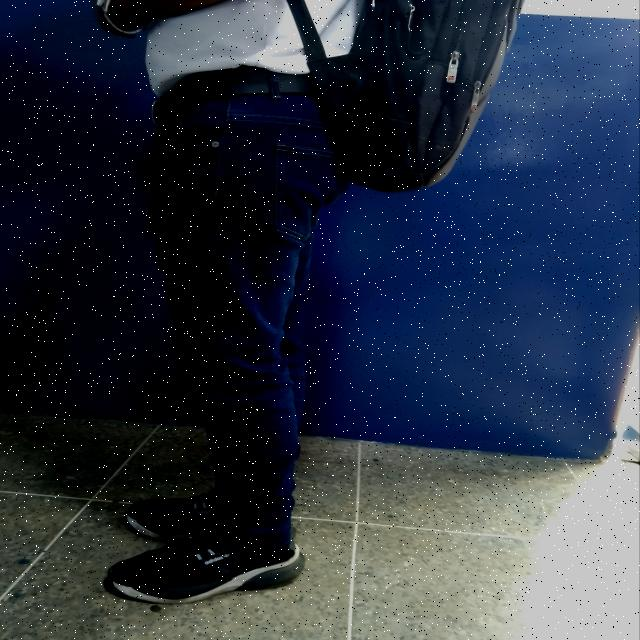pantalon_oscuro: (150, 92, 344, 558)
